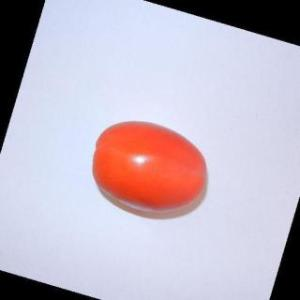tomato: (88, 116, 218, 228)
